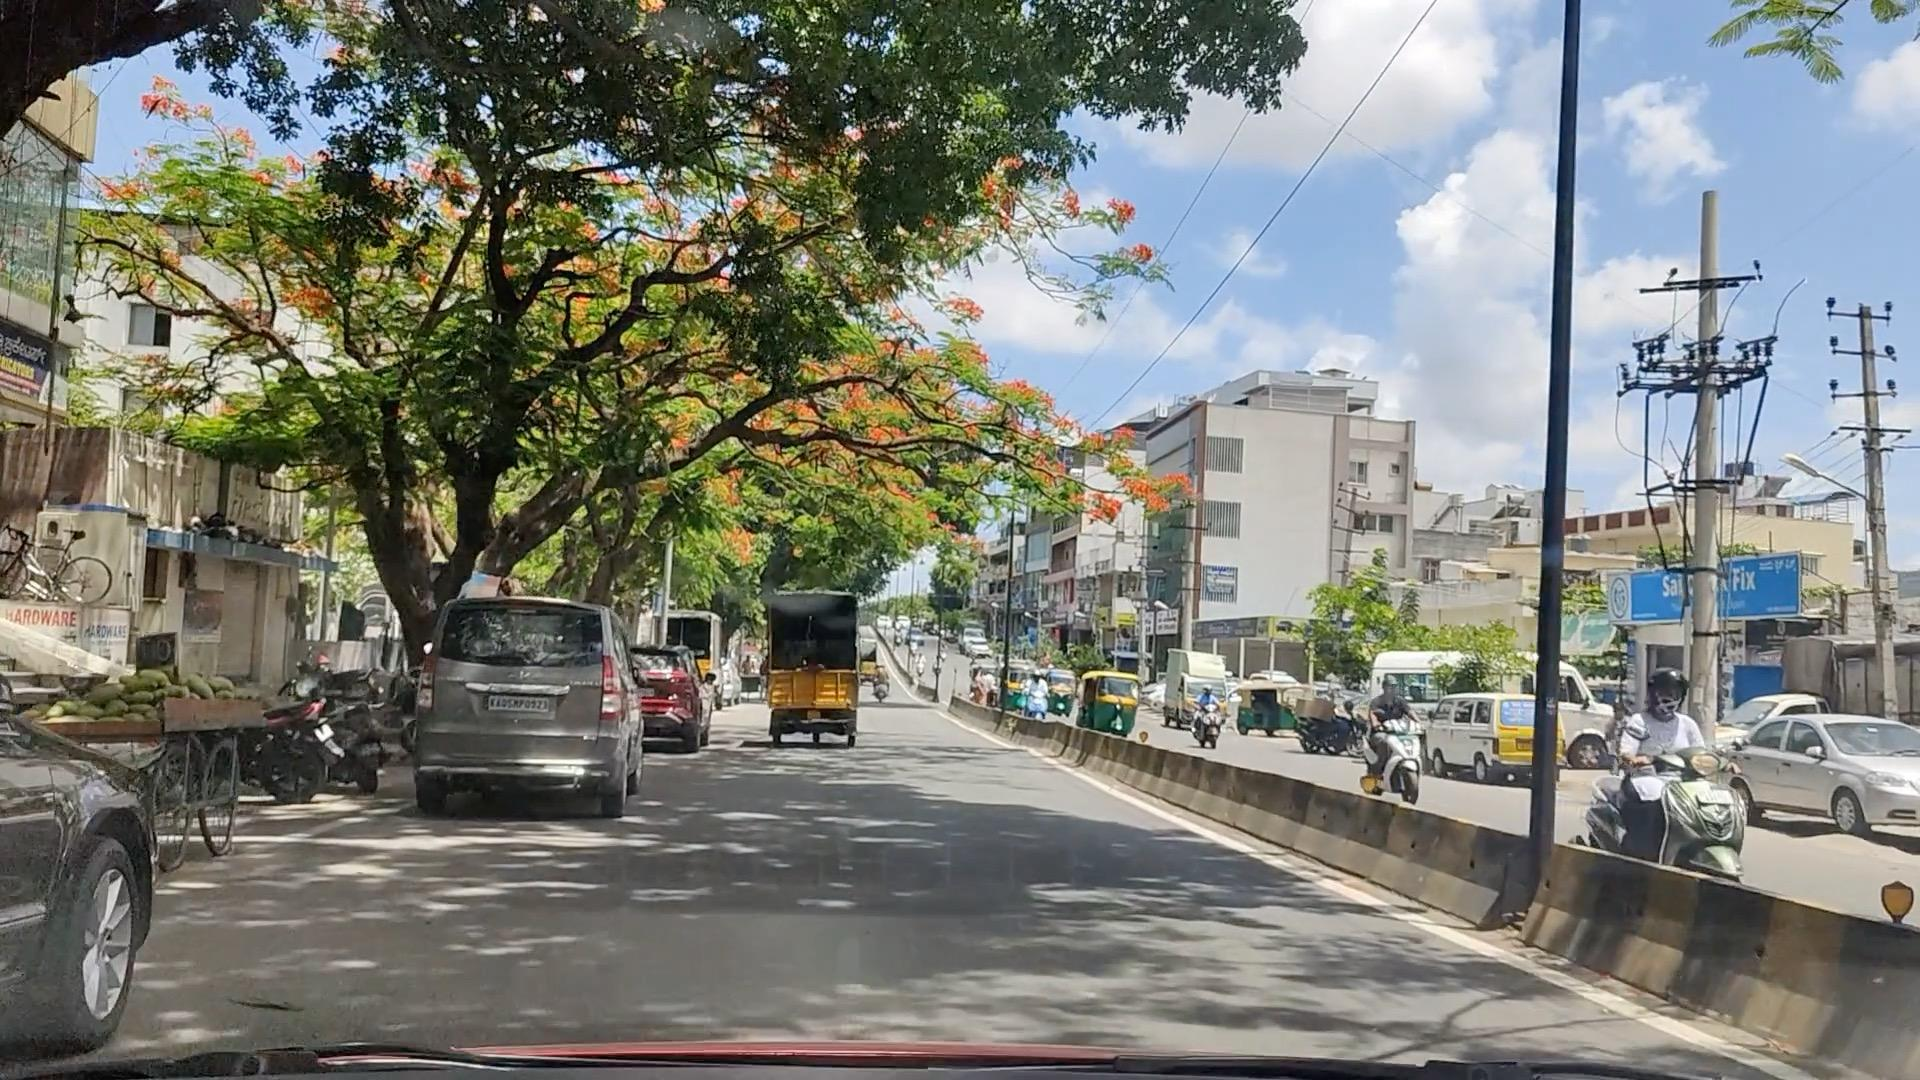HMV: (764, 574, 853, 741)
LMV: (389, 583, 617, 827)
